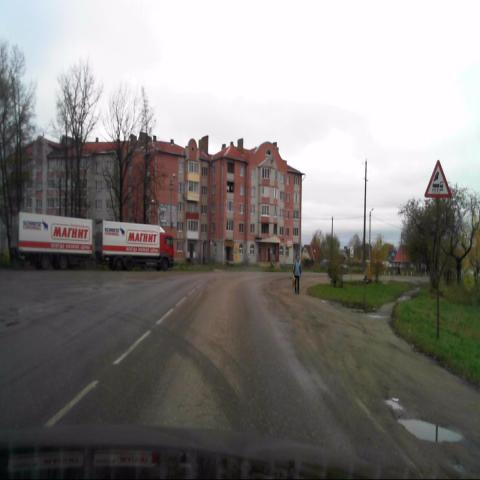1_2: (424, 159, 452, 199)
